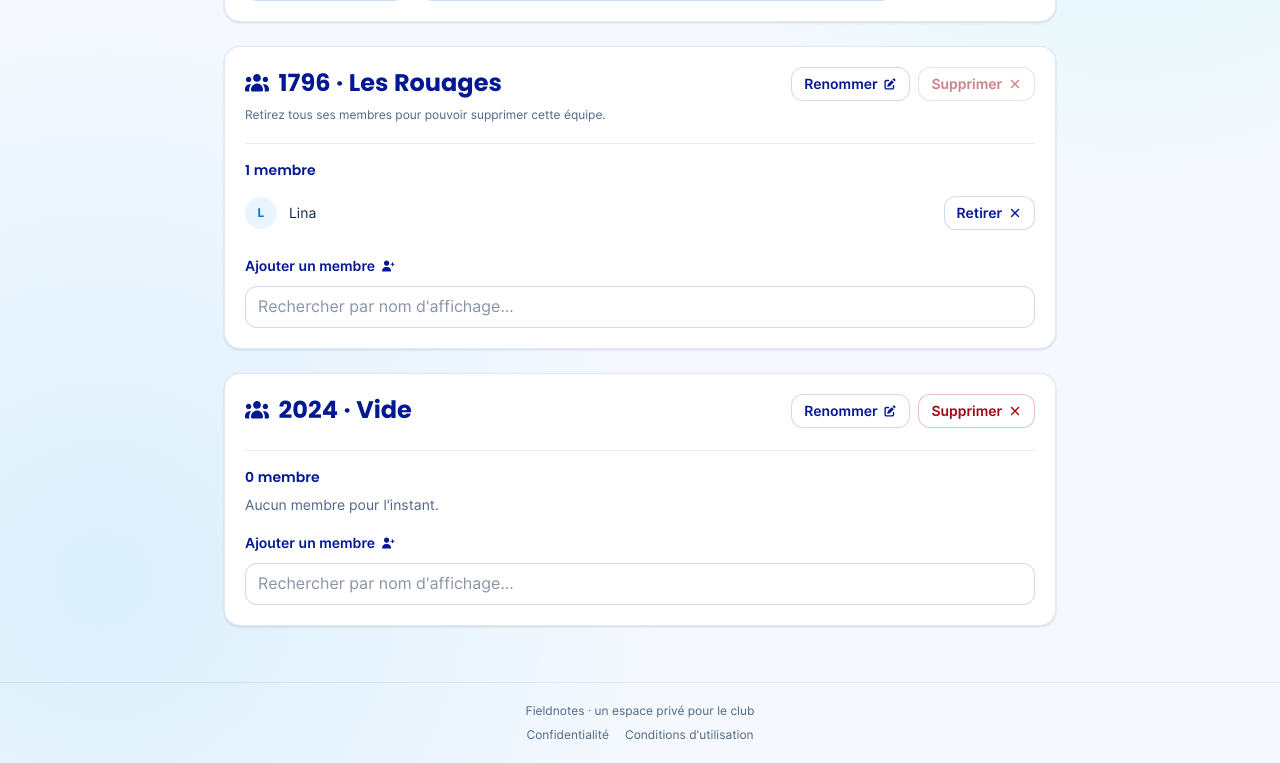
Scenario: only lets an empty team be deleted, after confirming
(page scrolled)
Expected: the button "Supprimer" in the row of "1796 · Les Rouages" is disabled, [918,67,1035,101]
Expected: the text "Retirez tous ses membres pour pouvoir supprimer cette équipe." is shown, [245,107,606,122]
Click the button "Supprimer" in the row of "2024 · Vide" at (977, 411), box [918,394,1035,428]
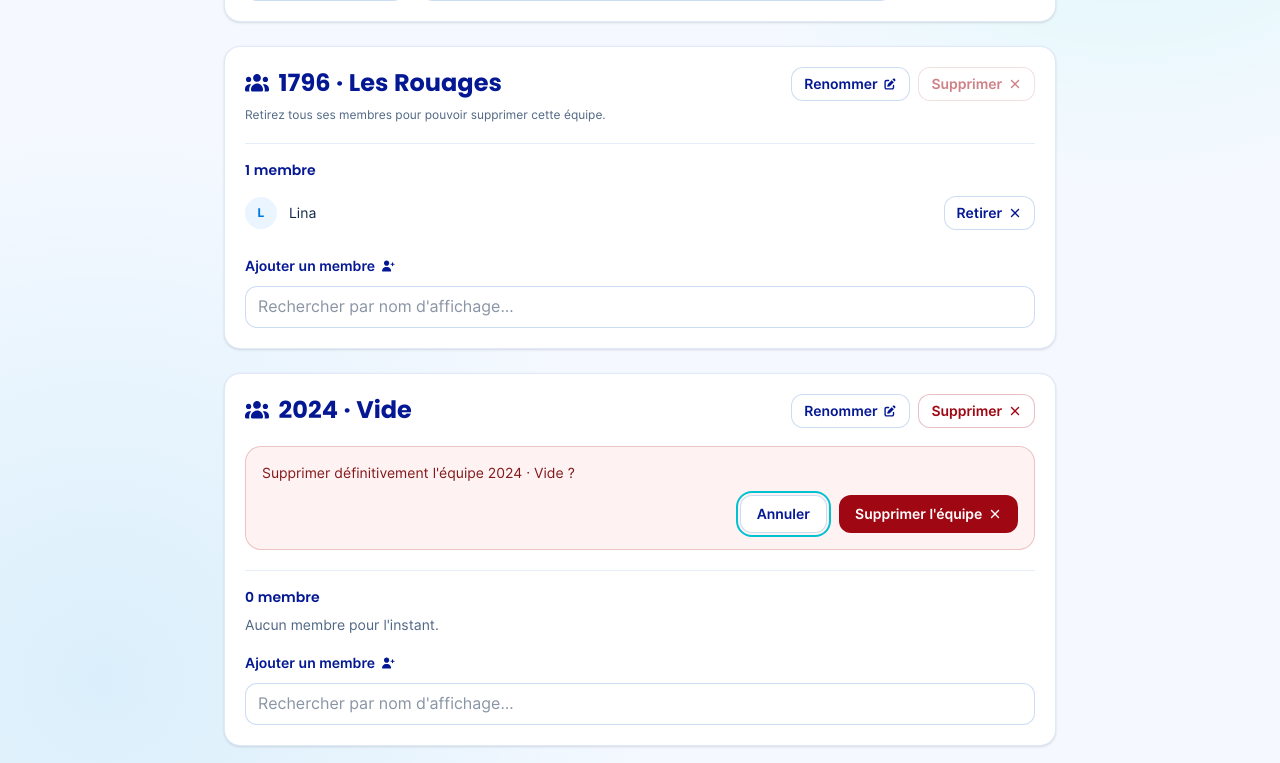
Click the button "Supprimer l'équipe" at (929, 514), box [839,495,1018,533]
(page scrolled)
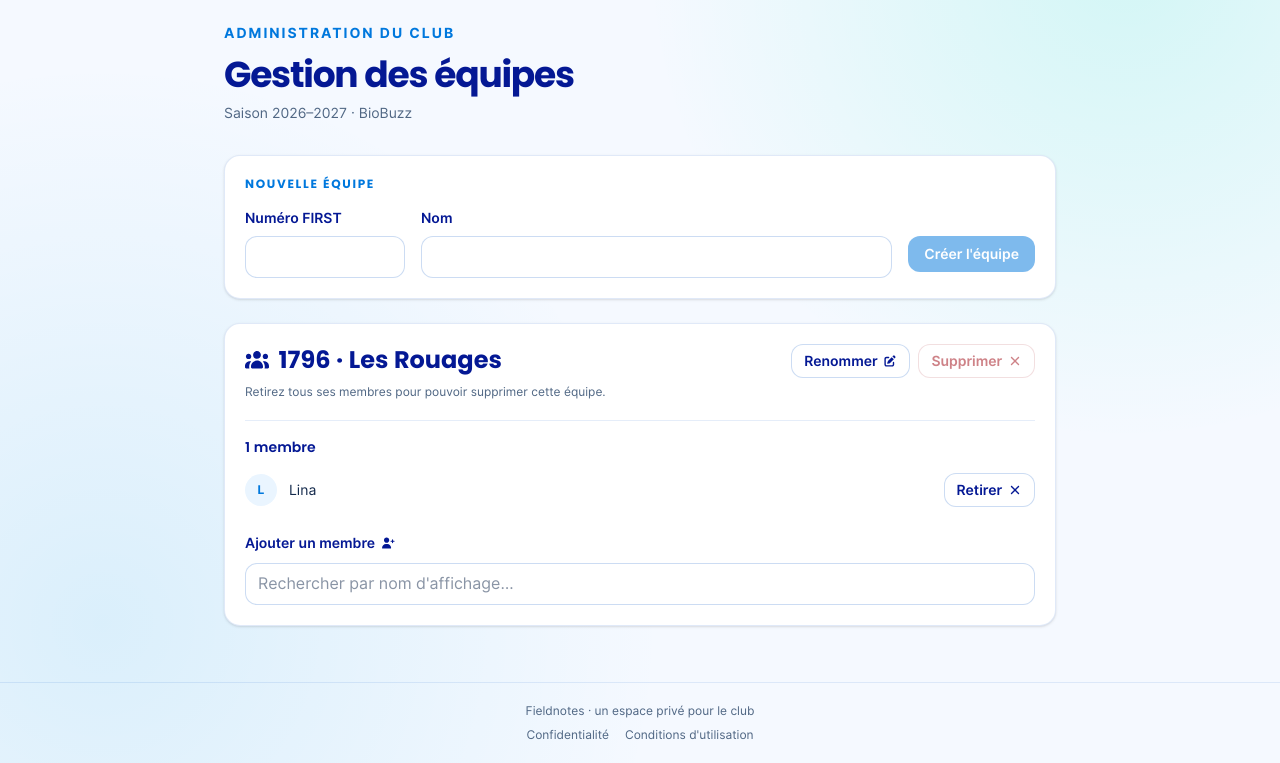
Now the element "2024 · Vide" is gone
